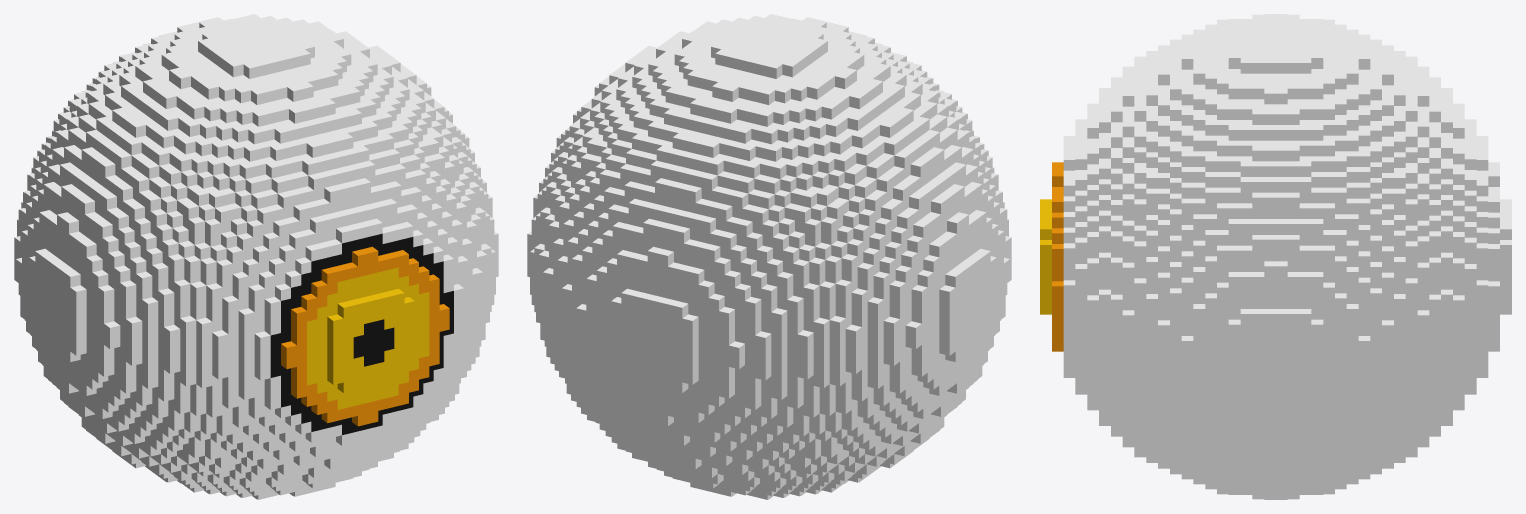
The model's file is eye.obj.
The picture shows the model from 3 angles, left to right: view 1: azimuth 30°, elevation 25°; view 2: azimuth 150°, elevation 25°; view 3: azimuth 270°, elevation 25°; orthographic projection.
Size of the model in its own units: 4 by 4 by 4.
Materials: 1 (1 with a texture image).
